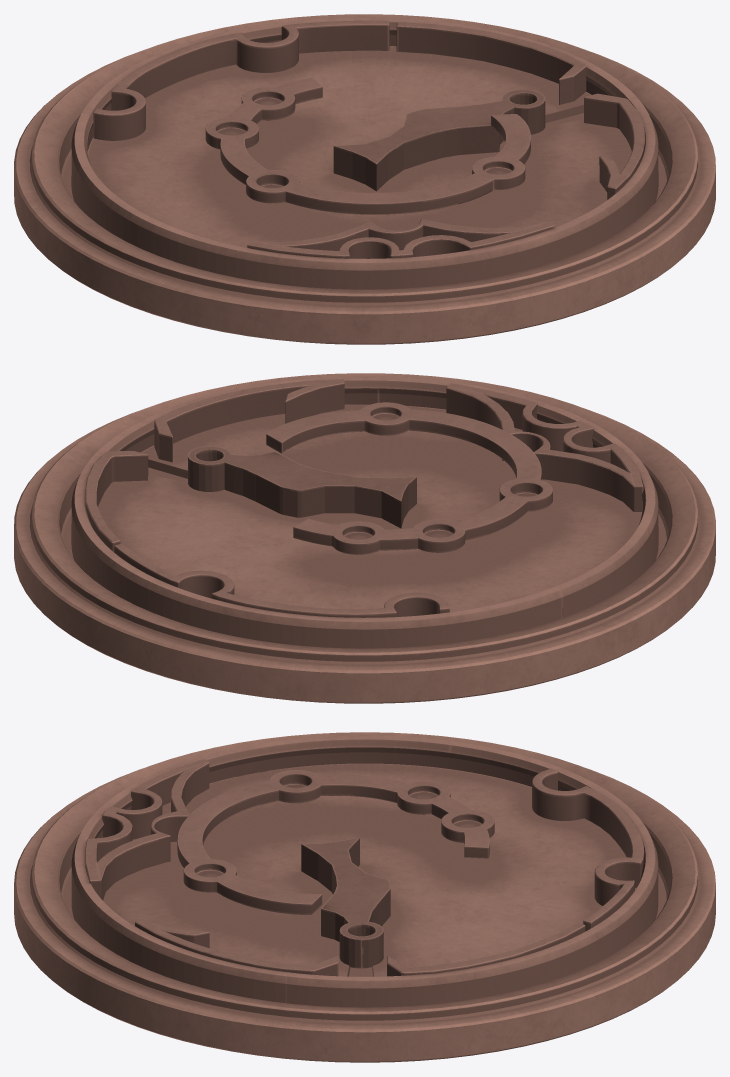
The model's file is relojbase.obj.
3 renders of one model, top to bottom at view 1: azimuth 30°, elevation 25°; view 2: azimuth 150°, elevation 25°; view 3: azimuth 270°, elevation 25°, orthographic.
Visible parts, largest first — view 1: Part_002_part_02_0.001; view 2: Part_002_part_02_0.001; view 3: Part_002_part_02_0.001.
Boxes of the visible parts, box(x1,y1,x2,y2) form: Part_002_part_02_0.001: box(14, 14, 715, 344); Part_002_part_02_0.001: box(14, 373, 715, 703); Part_002_part_02_0.001: box(14, 732, 715, 1062).
Bounding box in the file's own units: 8.13 × 0.9255 × 8.13.
